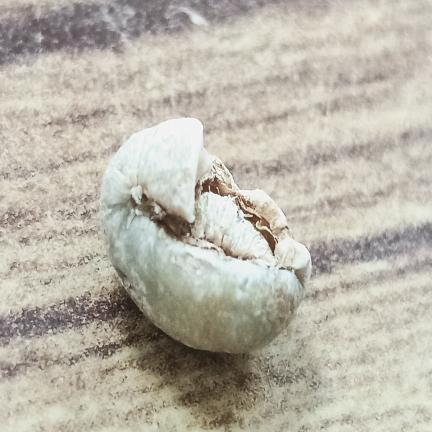cut: (100, 118, 311, 353)
